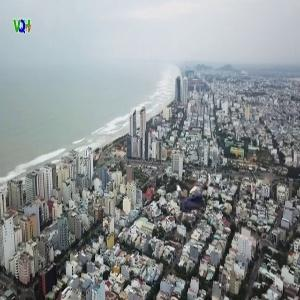drone: (161, 170, 225, 234)
